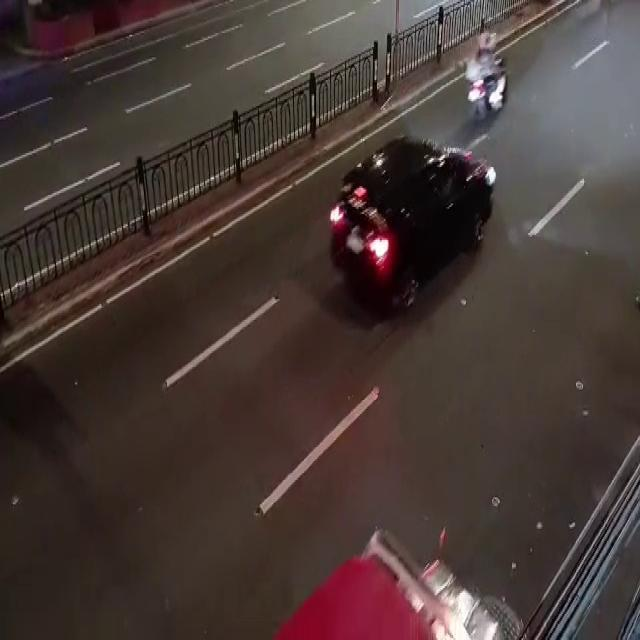car: (305, 124, 519, 339)
